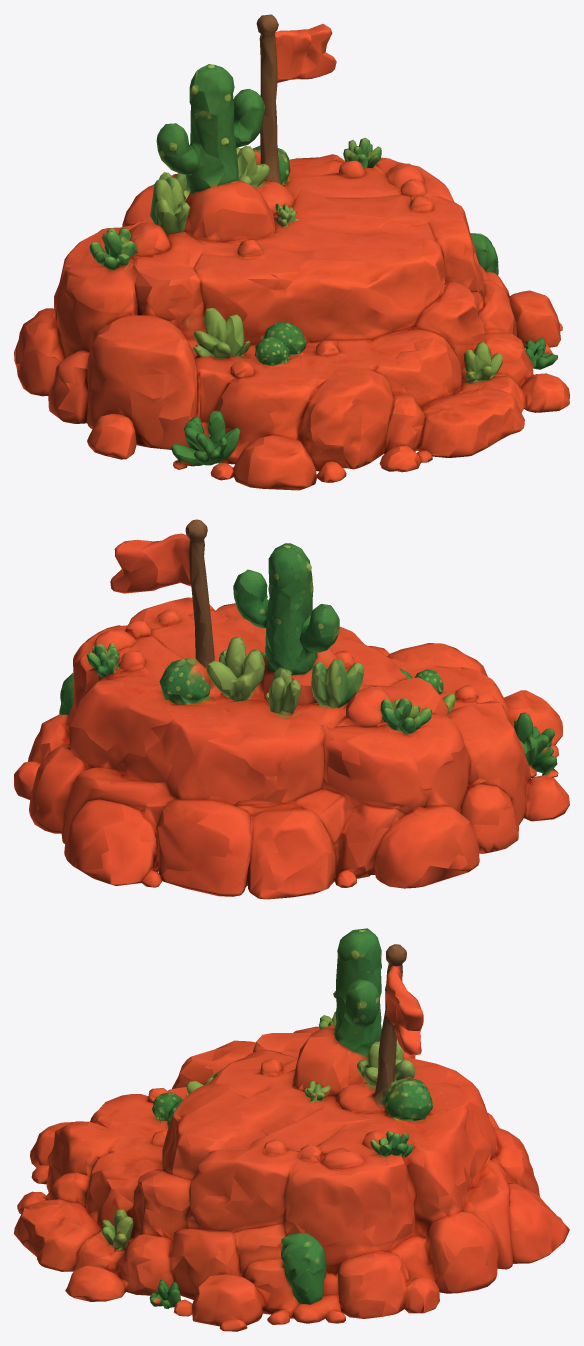
The model's file is cactus-mesa.glb.
The picture shows the model from 3 angles, top to bottom: view 1: azimuth 30°, elevation 25°; view 2: azimuth 150°, elevation 25°; view 3: azimuth 270°, elevation 25°; orthographic projection. The views are drawn at different scales.
Bounding box in the file's own units: 1.83 × 1.09 × 1.9.
Materials: 1 (1 with a texture image).
